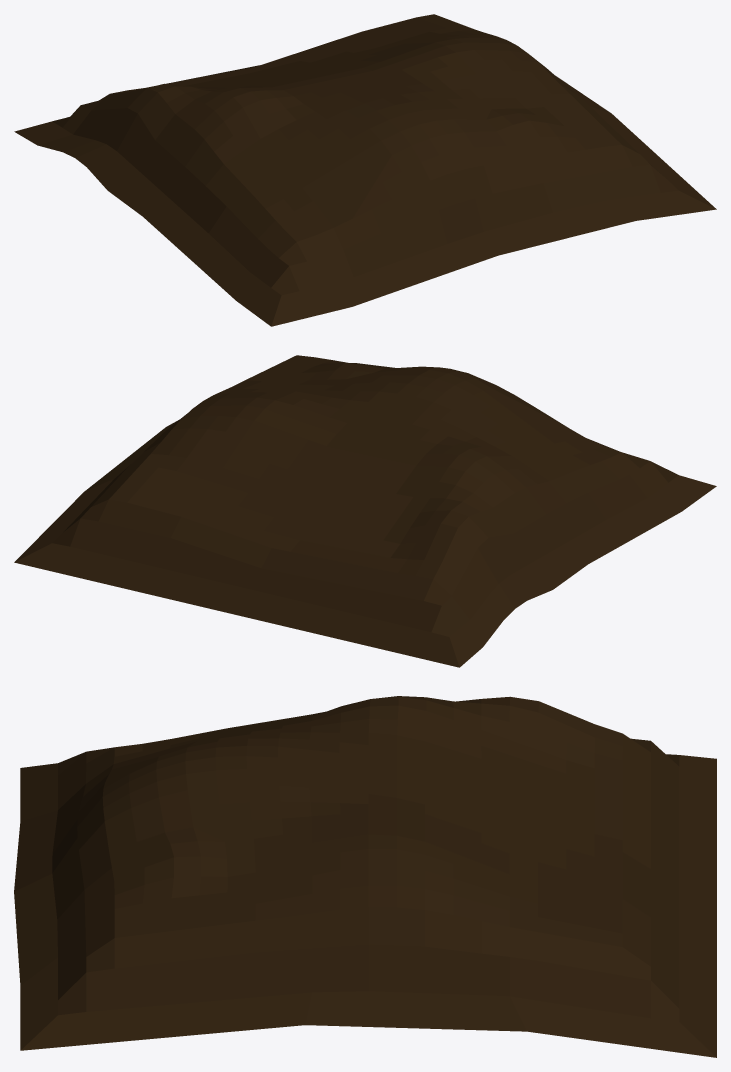
Rendered from Lvl1_RS_Decor_Model.fbx.
3 renders of one model, top to bottom at view 1: azimuth 30°, elevation 25°; view 2: azimuth 150°, elevation 25°; view 3: azimuth 270°, elevation 25°, orthographic. The views are drawn at different scales.
Visible parts, largest first — view 1: Plane; view 2: Plane; view 3: Plane.
Boxes of the visible parts, box(x1,y1,x2,y2) form: Plane: box(14, 14, 716, 326); Plane: box(14, 355, 716, 667); Plane: box(14, 696, 716, 1057).
Size of the model in its own units: 224 by 52.83 by 226.
